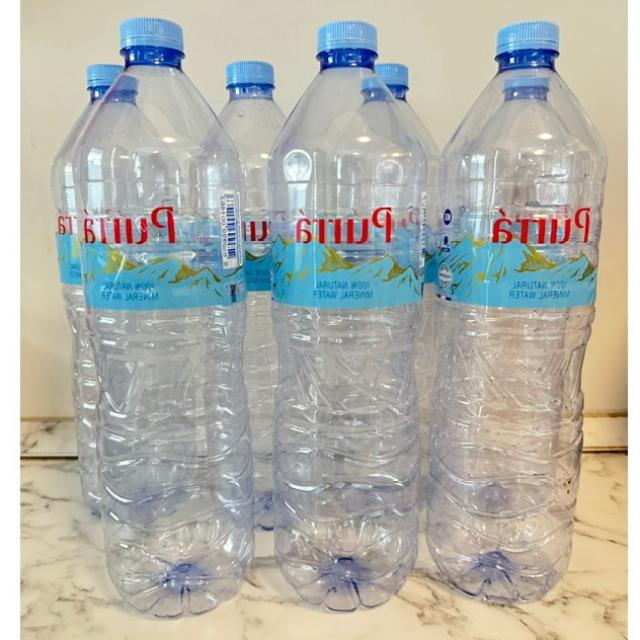plastik: (73, 17, 253, 617), (428, 21, 606, 604), (270, 21, 425, 611), (219, 61, 285, 529)
